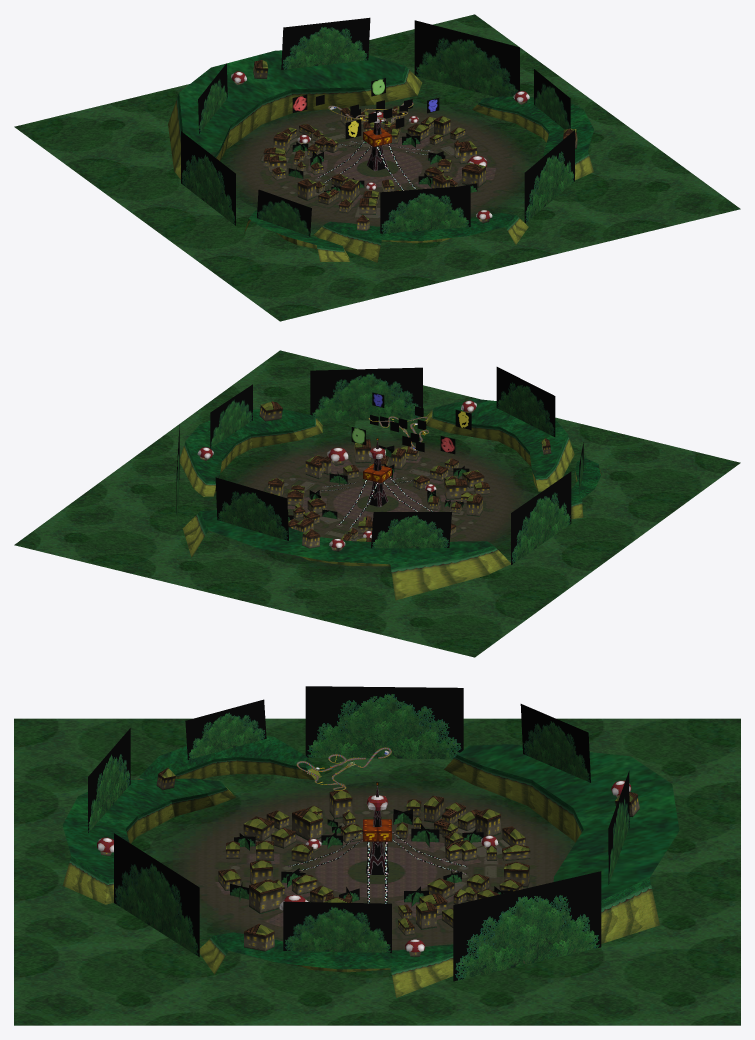
The picture shows the model from 3 angles, top to bottom: view 1: azimuth 30°, elevation 25°; view 2: azimuth 150°, elevation 25°; view 3: azimuth 270°, elevation 25°; orthographic projection. The views are drawn at different scales.
Parts seen in each view (by area): view 1: Ground, Buildings-Rock, Skyscraper-Bush; view 2: Ground, Buildings-Rock, Skyscraper-Bush; view 3: Ground, Buildings-Rock, Skyscraper-Bush.
Boxes of the visible parts, x1,y1,x2,y2 form: Ground: [14, 14, 740, 321]; Buildings-Rock: [168, 50, 593, 262]; Skyscraper-Bush: [181, 17, 574, 236]; Ground: [14, 350, 740, 657]; Buildings-Rock: [179, 398, 601, 600]; Skyscraper-Bush: [176, 367, 583, 564]; Ground: [14, 718, 740, 1025]; Buildings-Rock: [62, 736, 679, 997]; Skyscraper-Bush: [88, 686, 631, 981].
Bounding box in the file's own units: 800000 × 144506 × 800000.
Materials: 25 (24 with a texture image).
